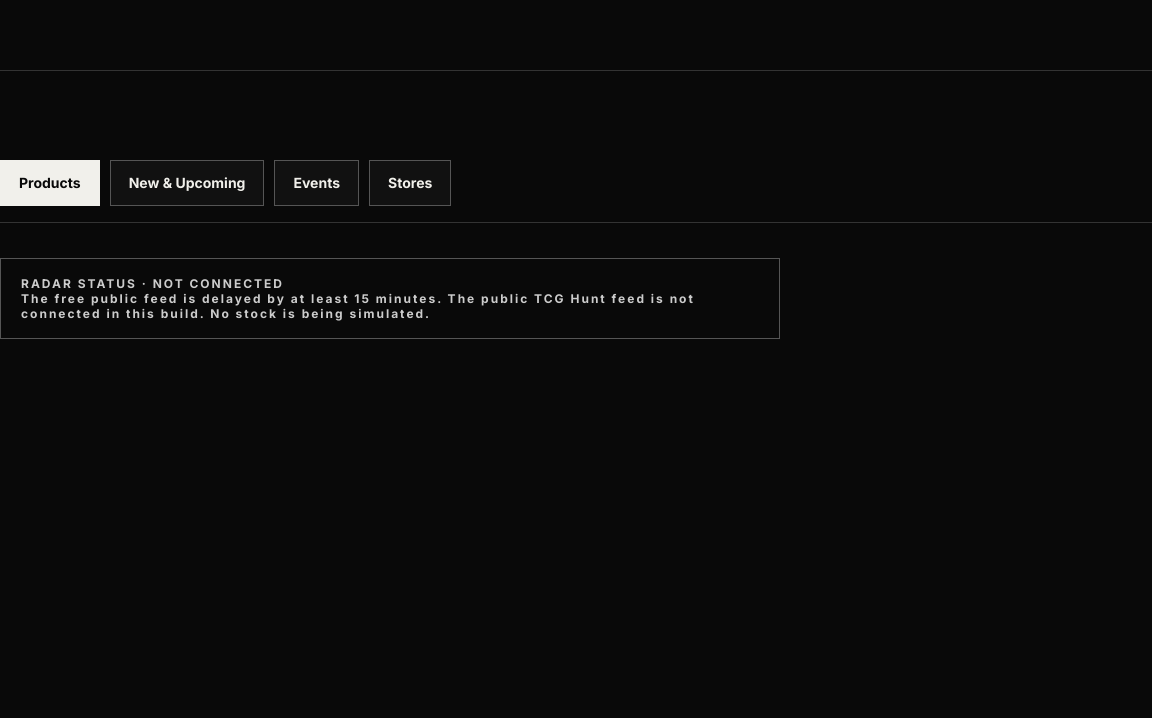
Test: TcgRadar › loads only an independently configured public events endpoint
Step 1. Click the button "Events" → (317, 183), box [274,160,359,206]
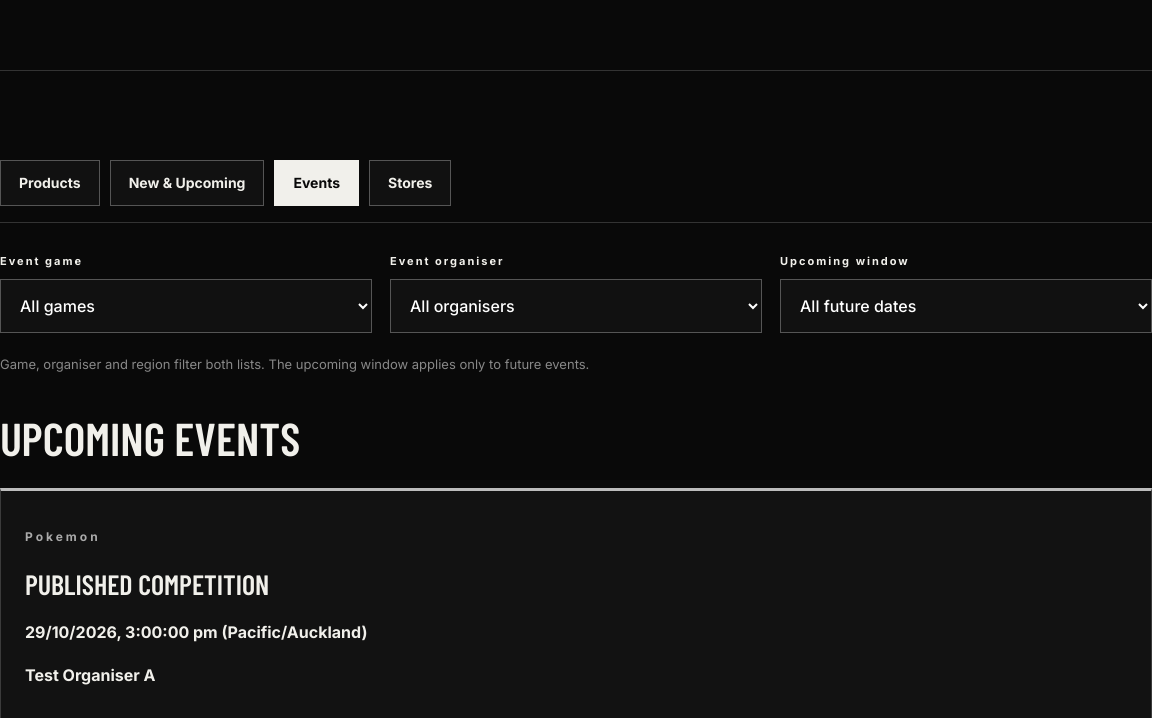
expect the heading "Published competition" is shown: met, box [25,567,269,601]
